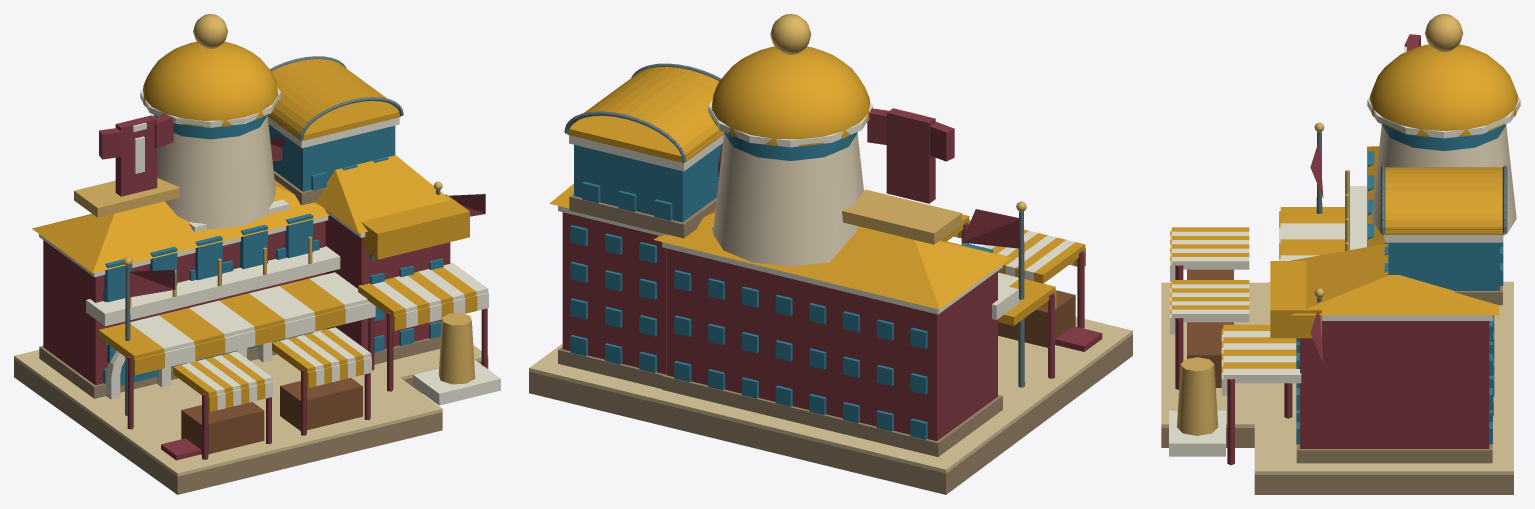
Rendered from club-shop-lv5.glb.
The picture shows the model from 3 angles, left to right: view 1: azimuth 30°, elevation 25°; view 2: azimuth 150°, elevation 25°; view 3: azimuth 270°, elevation 25°; orthographic projection. The views are drawn at different scales.
Visible parts, largest first — view 1: foundation_sand, awnings_ochre, flagship_rotunda_cream, awnings_white, market_row_roof_ochre, flagship_dome_ochre, market_row_burgundy, foundation_stoneDark, showroom_roof_ochre, market_stalls_wood, shop_balcony_white, retail_corner_roof_ochre (+27 smaller); view 2: market_row_burgundy, flagship_rotunda_cream, foundation_sand, foundation_stoneDark, flagship_dome_ochre, market_row_roof_ochre, retail_corner_burgundy, showroom_roof_ochre, market_row_windows_glass, showroom_glass, jersey_sign_burgundy, market_row_stoneDark (+18 smaller); view 3: retail_corner_burgundy, foundation_sand, flagship_dome_ochre, retail_corner_roof_ochre, awnings_white, showroom_roof_ochre, awnings_ochre, foundation_stoneDark, showroom_glass, flagship_rotunda_cream, corner_gate_ochre, retail_corner_stoneDark (+18 smaller).
Boxes of the visible parts, left/top/right/bottom form: foundation_sand: left=14, top=345, right=488, bottom=476; awnings_ochre: left=98, top=267, right=476, bottom=399; flagship_rotunda_cream: left=153, top=116, right=275, bottom=229; awnings_white: left=130, top=262, right=488, bottom=394; market_row_roof_ochre: left=32, top=180, right=329, bottom=272; flagship_dome_ochre: left=143, top=41, right=278, bottom=126; market_row_burgundy: left=43, top=221, right=325, bottom=385; foundation_stoneDark: left=14, top=359, right=488, bottom=494; showroom_roof_ochre: left=267, top=59, right=400, bottom=141; market_stalls_wood: left=181, top=378, right=362, bottom=454; shop_balcony_white: left=86, top=246, right=340, bottom=326; retail_corner_roof_ochre: left=316, top=155, right=450, bottom=233; market_row_burgundy: left=667, top=248, right=997, bottom=441; flagship_rotunda_cream: left=713, top=133, right=863, bottom=266; foundation_sand: left=529, top=317, right=1132, bottom=473; foundation_stoneDark: left=529, top=334, right=1132, bottom=494; flagship_dome_ochre: left=710, top=46, right=869, bottom=146; market_row_roof_ochre: left=653, top=209, right=1011, bottom=309; retail_corner_burgundy: left=562, top=212, right=666, bottom=374; showroom_roof_ochre: left=567, top=66, right=723, bottom=163; market_row_windows_glass: left=674, top=270, right=927, bottom=439; showroom_glass: left=574, top=143, right=722, bottom=222; jersey_sign_burgundy: left=867, top=108, right=954, bottom=203; market_row_stoneDark: left=662, top=375, right=1002, bottom=456; retail_corner_burgundy: left=1300, top=321, right=1489, bottom=448; foundation_sand: left=1161, top=281, right=1513, bottom=474; flagship_dome_ochre: left=1369, top=44, right=1518, bottom=136; retail_corner_roof_ochre: left=1290, top=243, right=1499, bottom=315; awnings_white: left=1171, top=223, right=1344, bottom=383; showroom_roof_ochre: left=1383, top=167, right=1504, bottom=234; awnings_ochre: left=1171, top=207, right=1344, bottom=368; foundation_stoneDark: left=1161, top=428, right=1513, bottom=494; showroom_glass: left=1388, top=242, right=1499, bottom=290; flagship_rotunda_cream: left=1371, top=125, right=1516, bottom=235; corner_gate_ochre: left=1270, top=261, right=1321, bottom=338; retail_corner_stoneDark: left=1296, top=444, right=1492, bottom=463.
Size of the model in its own units: 1 by 0.8578 by 0.7411.
